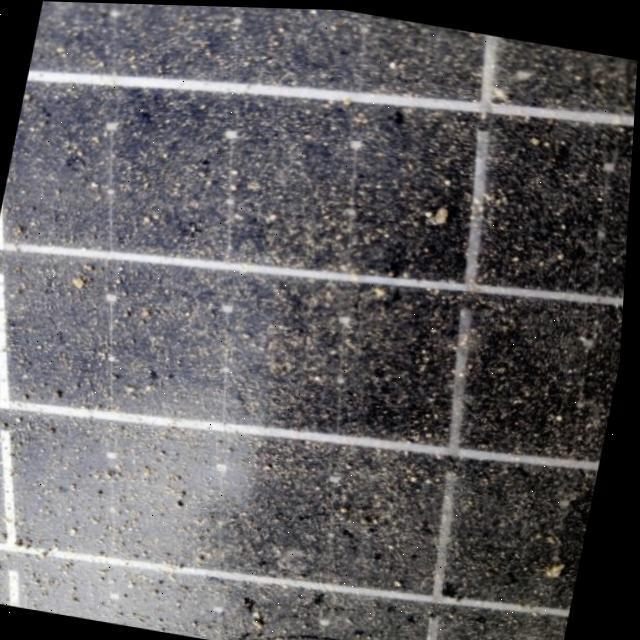Surface Contaminant: (73, 116, 612, 640)
